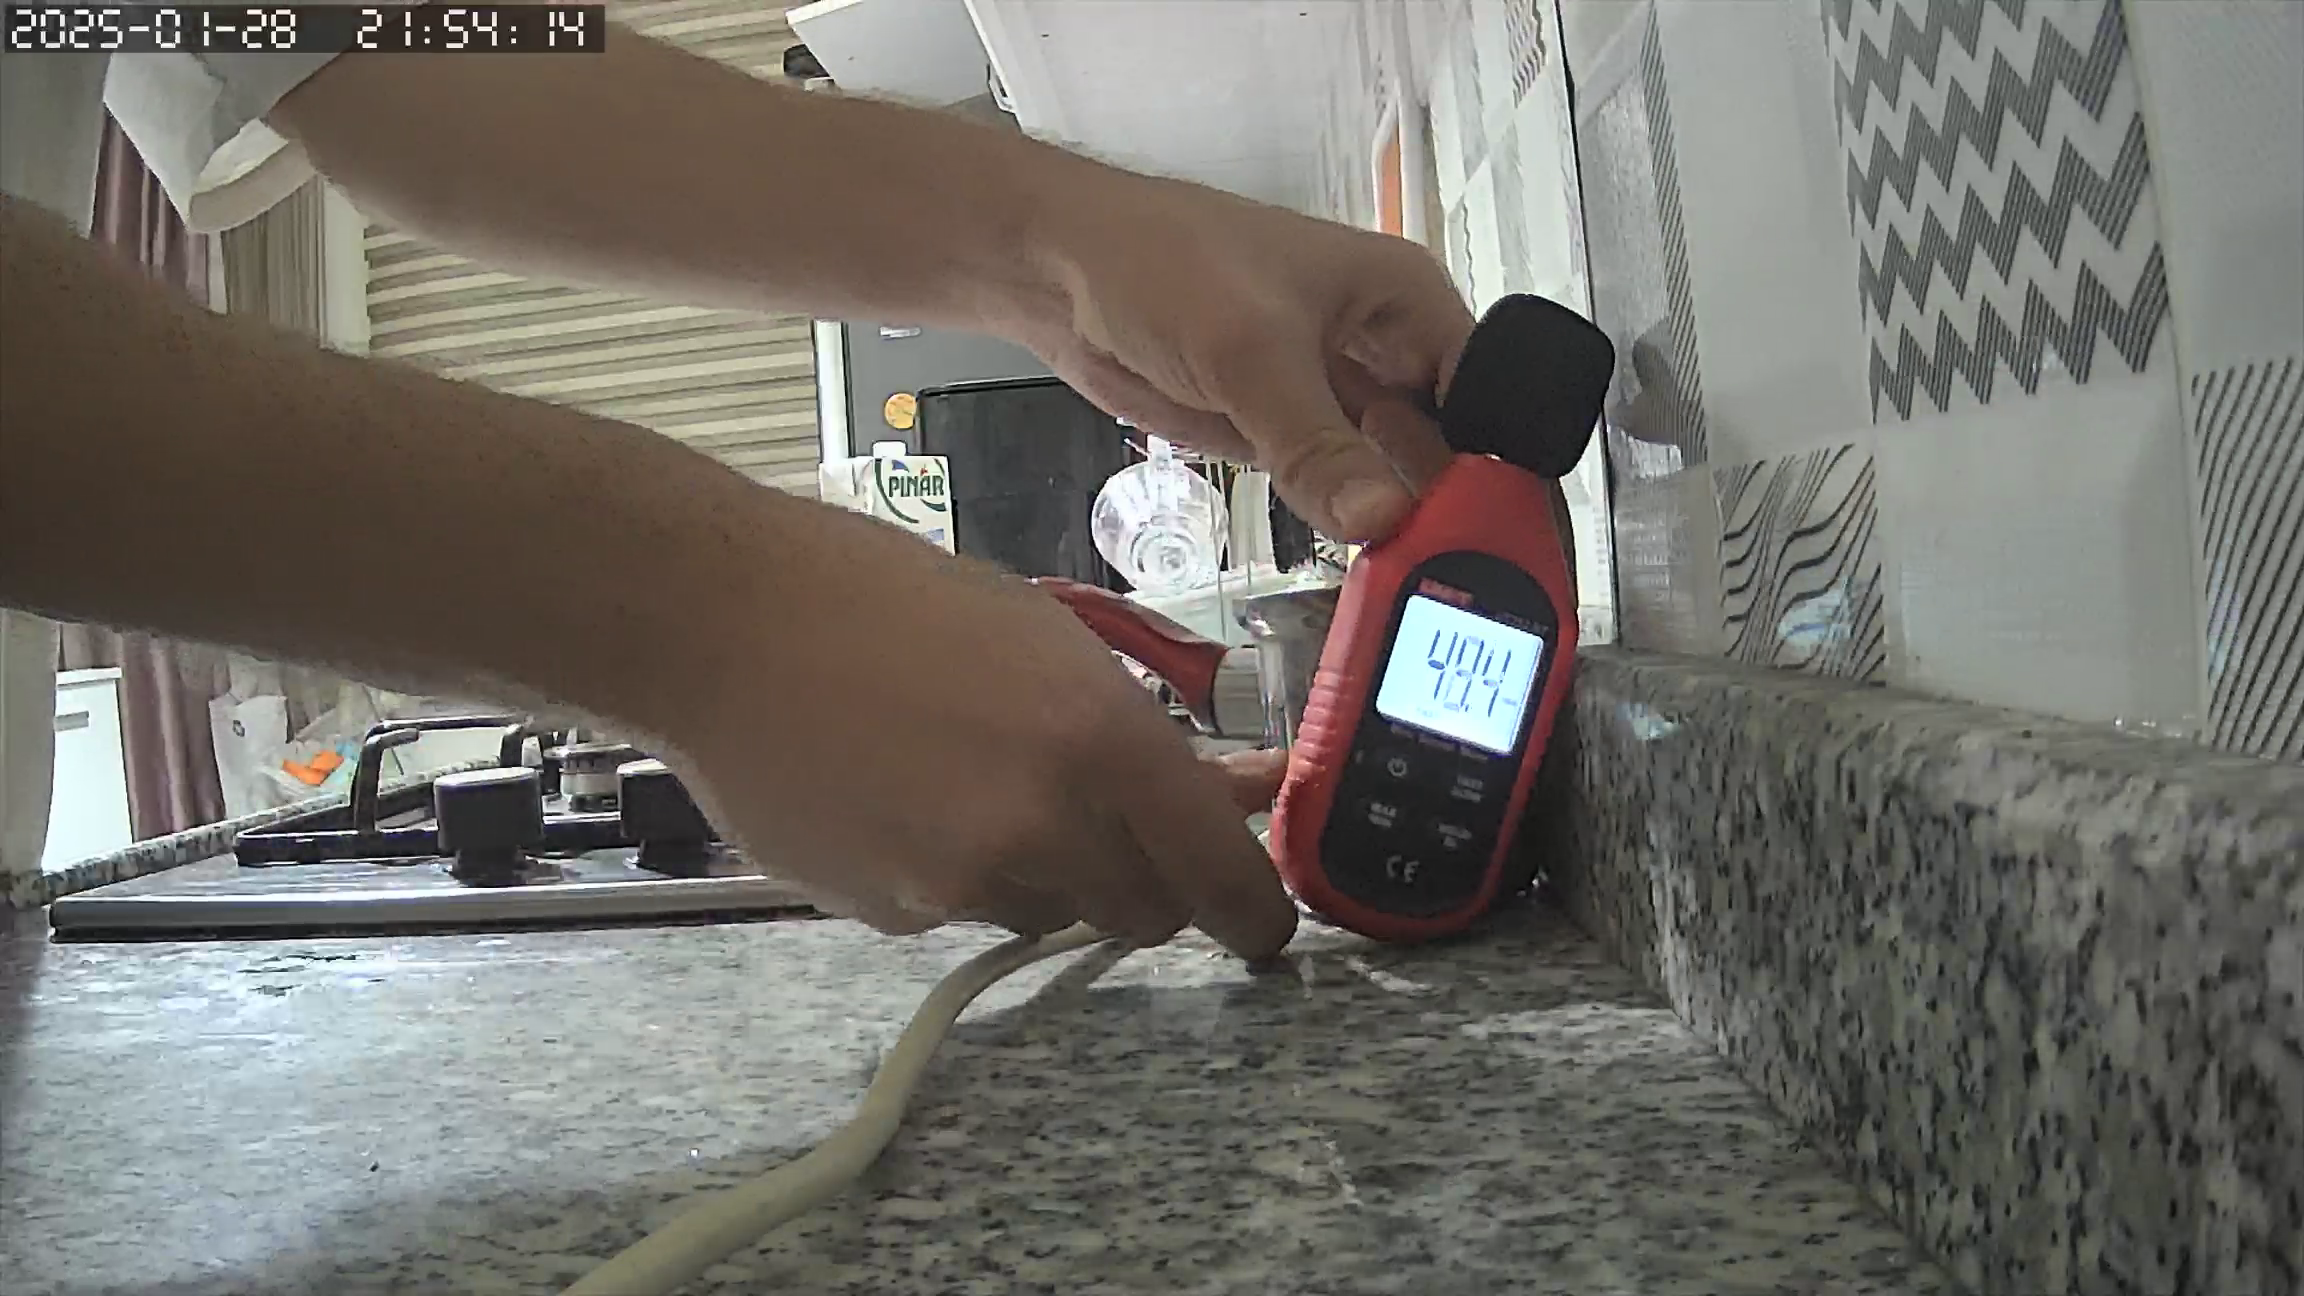screen: (1378, 597, 1540, 755)
